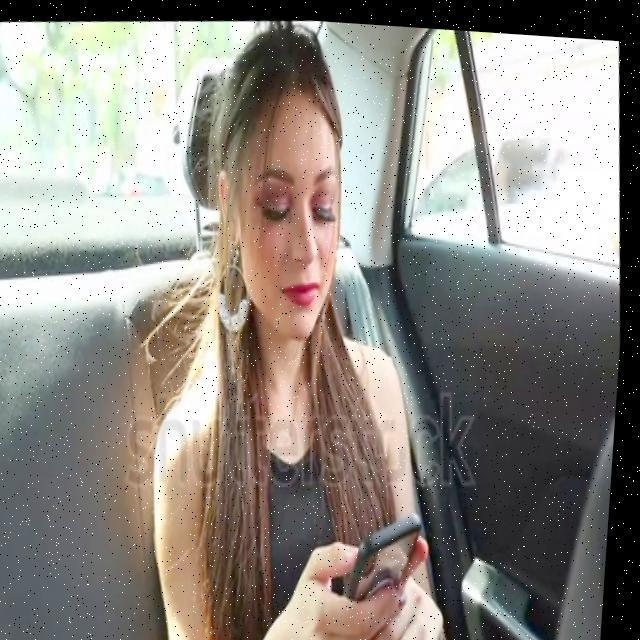PhoneCall: (351, 497, 435, 620)
